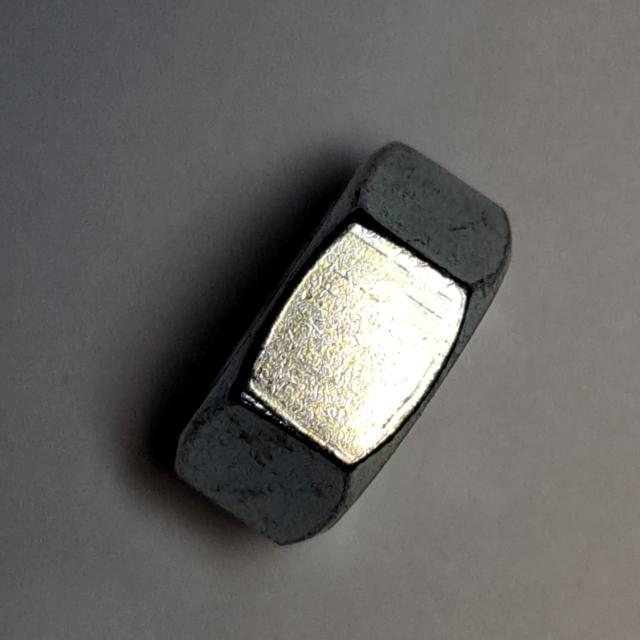Side_Excellent: (159, 124, 534, 567)
